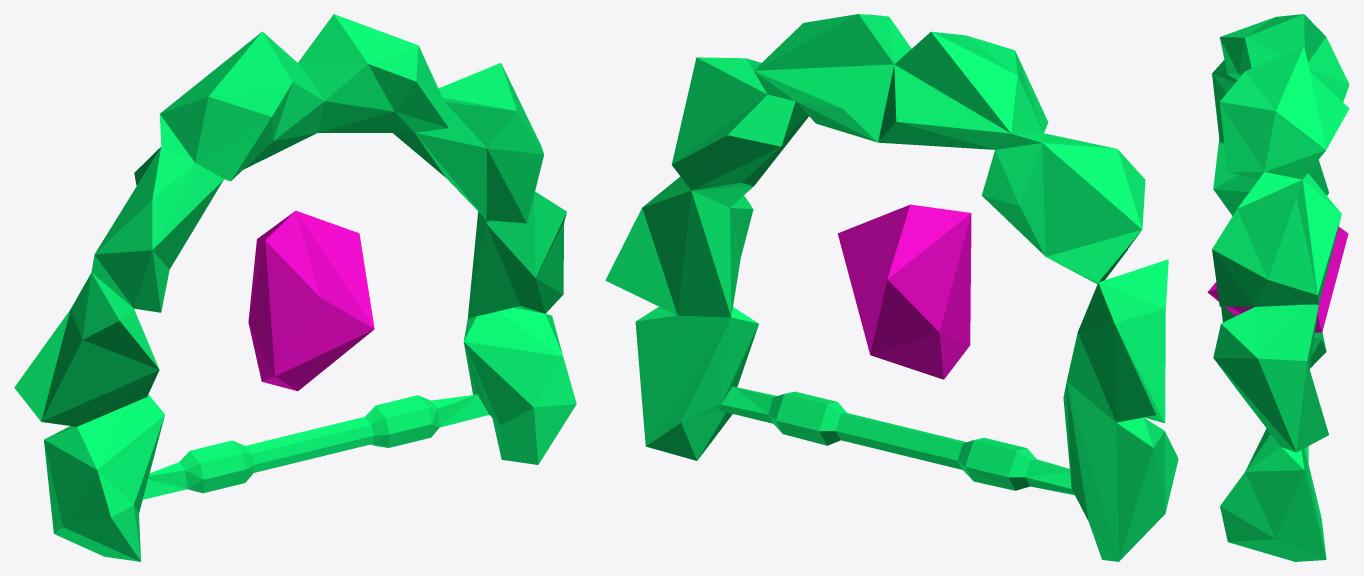
The model's file is SM_Grapple_Fixed.FBX.
3 renders of one model, left to right at view 1: azimuth 30°, elevation 25°; view 2: azimuth 150°, elevation 25°; view 3: azimuth 270°, elevation 25°, orthographic. The views are drawn at different scales.
Visible parts, largest first — view 1: SM_Grapple_Ring, SM_Grapple_Rock; view 2: SM_Grapple_Ring, SM_Grapple_Rock; view 3: SM_Grapple_Ring, SM_Grapple_Rock.
Boxes of the visible parts, x1=… form: SM_Grapple_Ring: x1=14, y1=14, x2=576, y2=561; SM_Grapple_Rock: x1=248, y1=210, x2=374, y2=391; SM_Grapple_Ring: x1=605, y1=14, x2=1178, y2=561; SM_Grapple_Rock: x1=837, y1=204, x2=971, y2=379; SM_Grapple_Ring: x1=1212, y1=14, x2=1349, y2=561; SM_Grapple_Rock: x1=1207, y1=226, x2=1348, y2=332.
Size of the model in its own units: 0.2591 by 0.2207 by 0.0643.
